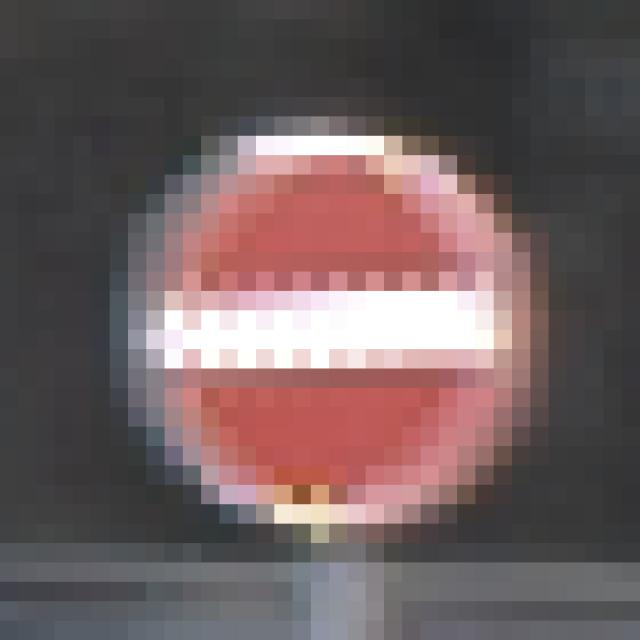No Entry: (111, 98, 550, 544)
